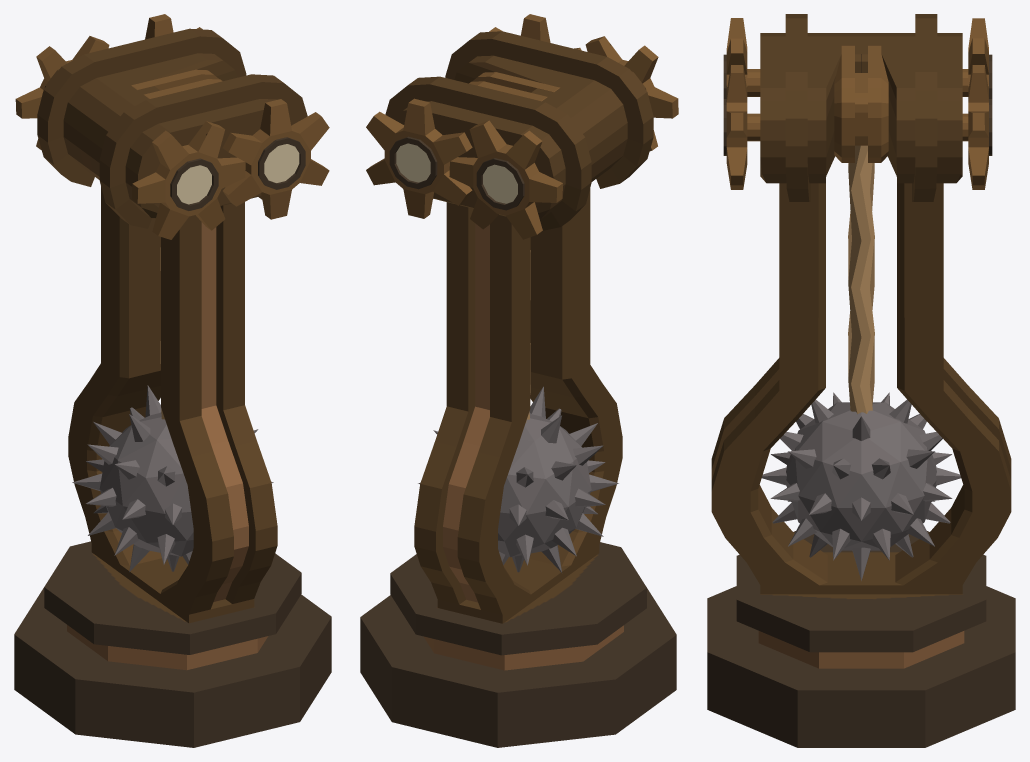
Rendered from Ballista Model Atlas.fbx.
3 views of the same model, side by side, from view 1: azimuth 30°, elevation 25°; view 2: azimuth 150°, elevation 25°; view 3: azimuth 270°, elevation 25° (orthographic). The views are drawn at different scales.
Visible parts, largest first — view 1: Cylinder.008, Icosphere, Gear1.003, Gear1.002, Gear1.001, Gear1; view 2: Cylinder.008, Icosphere, Gear1.001, Gear1, Gear1.003, Gear1.002; view 3: Cylinder.008, Icosphere, Gear1.002, Gear1, Gear1.003, Gear1.001.
Part boxes in pixels (bbox=[...]): Cylinder.008: bbox=[14, 28, 331, 747]; Icosphere: bbox=[72, 69, 273, 571]; Gear1.003: bbox=[131, 121, 245, 239]; Gear1.002: bbox=[223, 99, 329, 219]; Gear1.001: bbox=[15, 36, 109, 149]; Gear1: bbox=[145, 14, 202, 39]; Cylinder.008: bbox=[360, 31, 676, 747]; Icosphere: bbox=[418, 72, 618, 572]; Gear1.001: bbox=[449, 120, 562, 239]; Gear1: bbox=[366, 98, 472, 218]; Gear1.003: bbox=[585, 36, 678, 151]; Gear1.002: bbox=[489, 14, 581, 50]; Cylinder.008: bbox=[707, 14, 1015, 747]; Icosphere: bbox=[762, 45, 960, 580]; Gear1.002: bbox=[723, 65, 760, 189]; Gear1: bbox=[962, 65, 992, 189]; Gear1.003: bbox=[723, 18, 760, 98]; Gear1.001: bbox=[962, 18, 992, 98].
Size of the model in its own units: 185 by 185 by 422.
